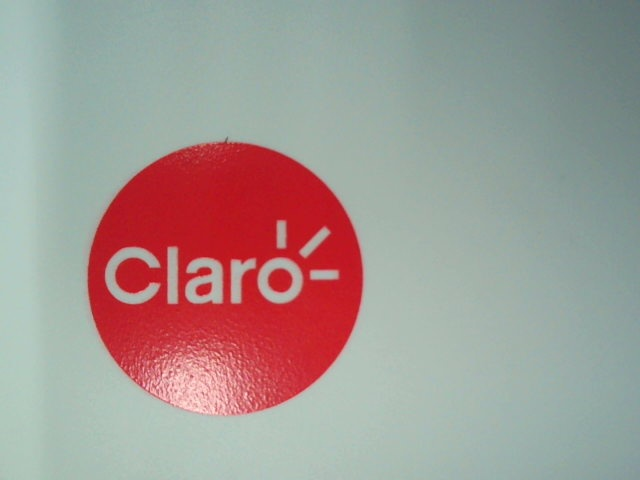BC_ClaorRed: (84, 142, 373, 421)
